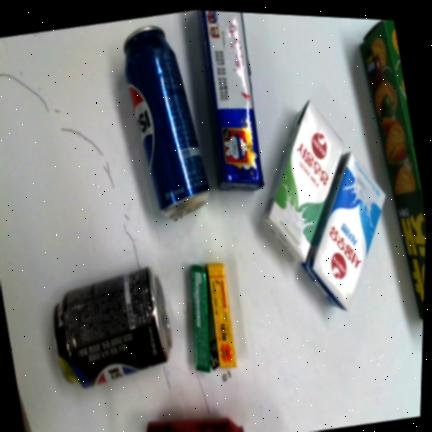can_coke_zero: (146, 418, 243, 432)
can_pepsi: (124, 26, 209, 217)
can_pepsi_zero: (54, 267, 171, 387)
cracker_ace: (198, 10, 264, 190)
cracker_vege: (361, 20, 426, 319)
gum_green: (192, 265, 210, 372)
gum_yellow: (207, 264, 236, 366)
milk_blue: (303, 153, 385, 309)
milk_green: (264, 102, 343, 262)
